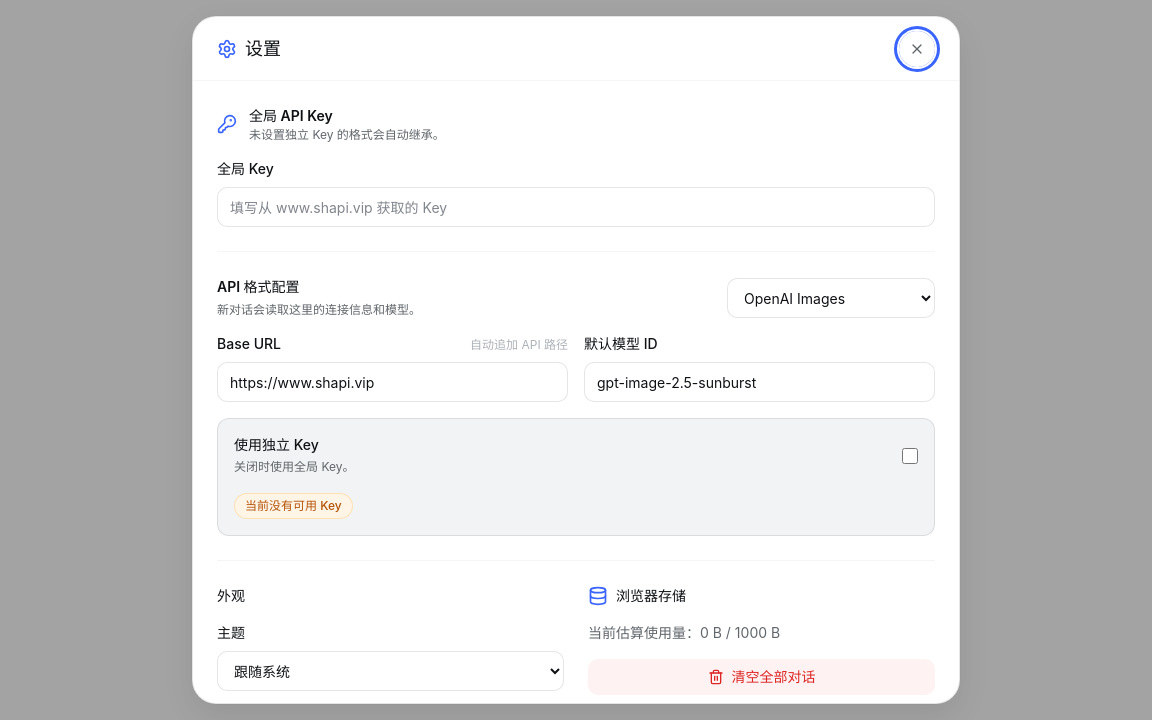
commits the complete first format key instead of promoting its first keystroke
Click the checkbox labelled "使用独立 Key 关闭时使用全局 Key。" at (910, 456), box 902,448 -> 918,464
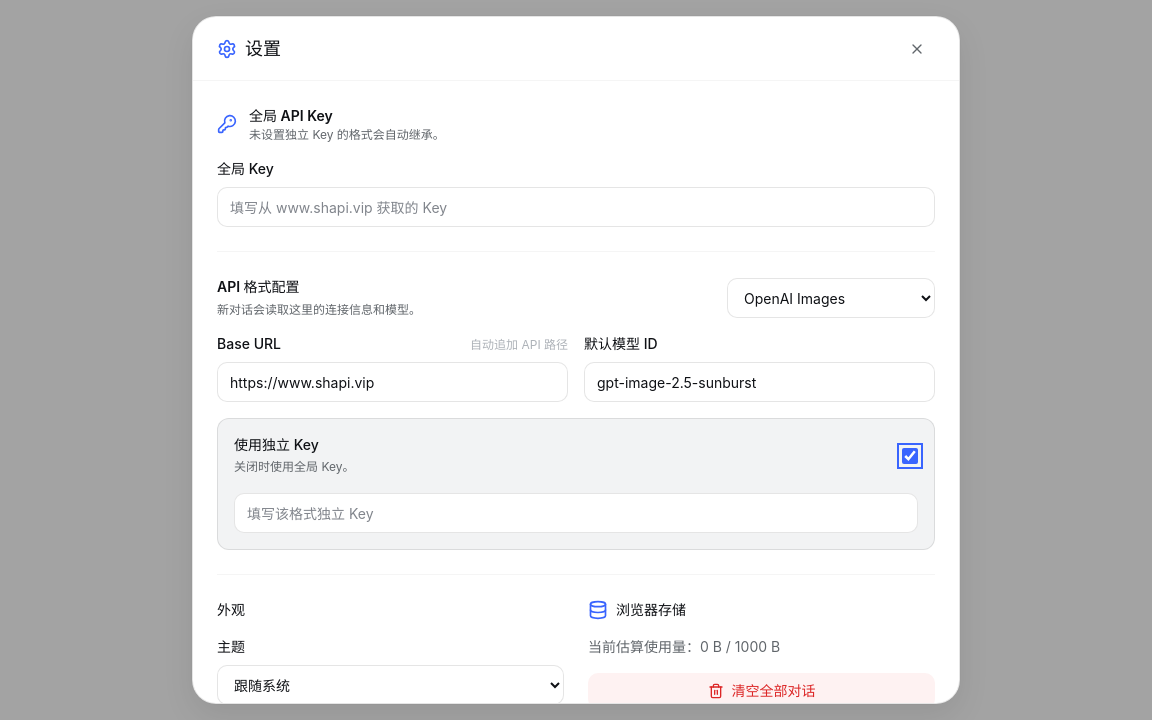
Type "complete-key" into the password field labelled "独立 Key" at (576, 513), box 234,493 -> 918,533
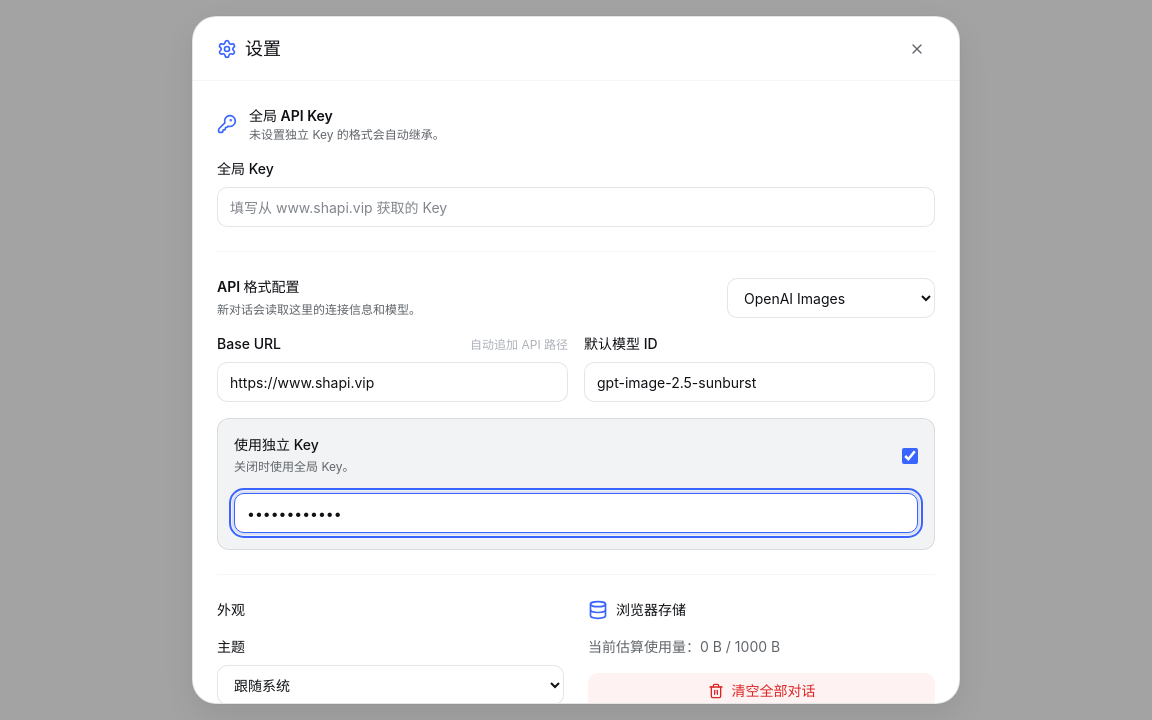
Press Tab
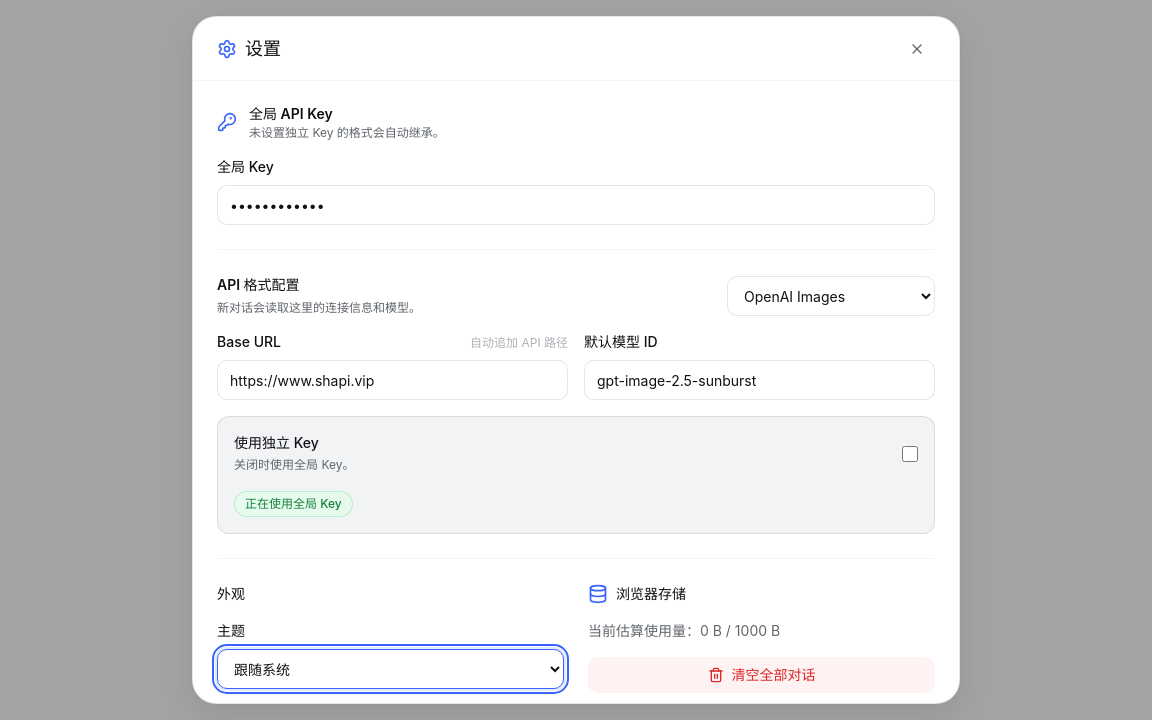
expect the password field labelled "全局 Key" holds "complete-key": met, box 217,185 -> 935,225
